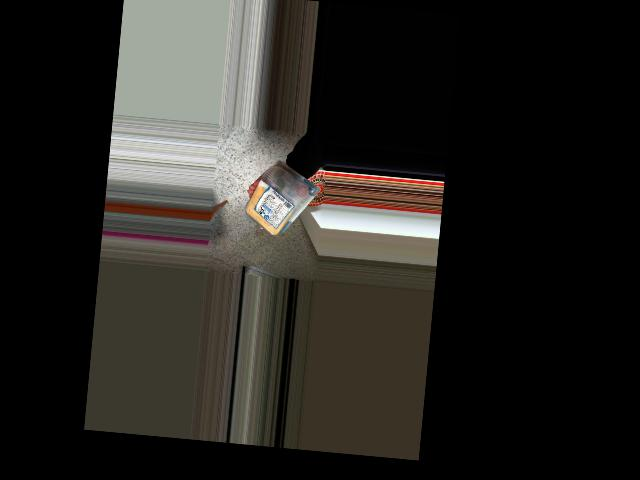cheese: (250, 169, 292, 238)
